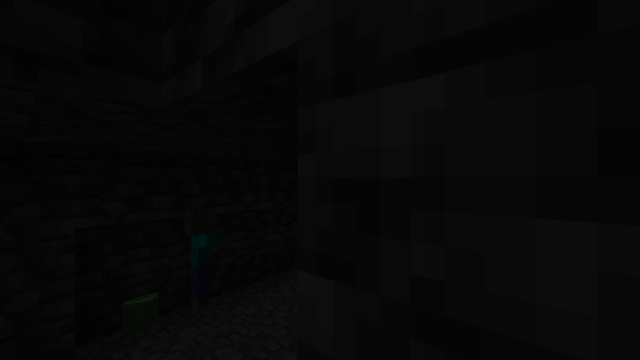slimes: (122, 288, 162, 335)
zombies: (182, 230, 217, 313)
